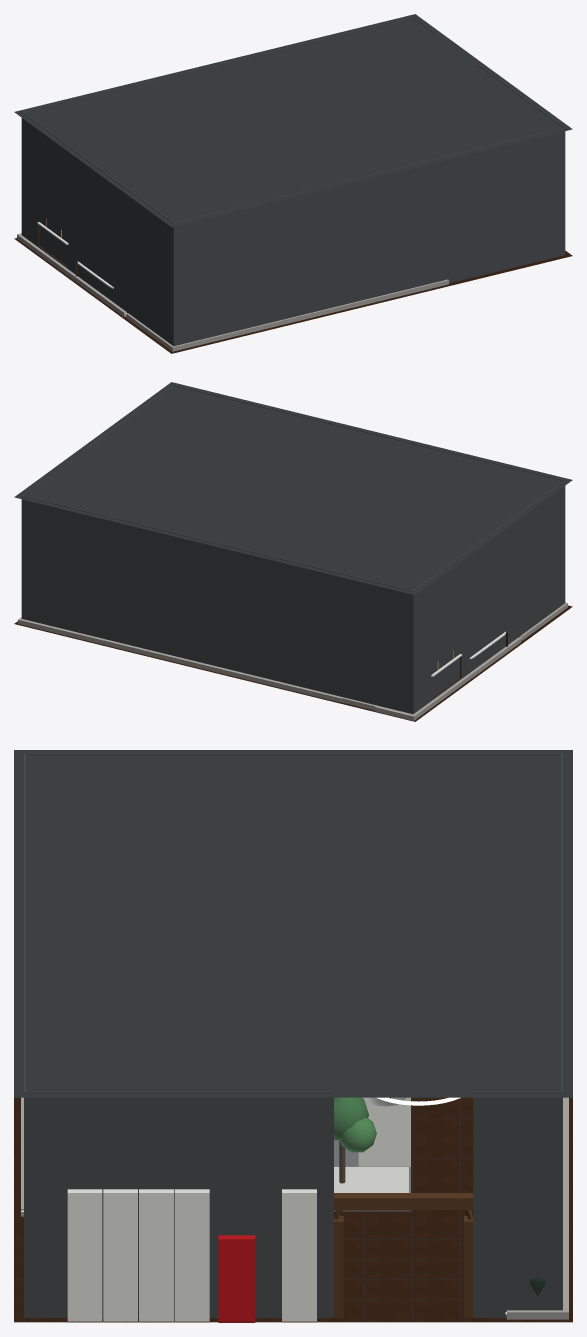
Rendered from Showroom.glb.
3 renders of one model, top to bottom at view 1: azimuth 30°, elevation 25°; view 2: azimuth 150°, elevation 25°; view 3: azimuth 270°, elevation 25°, orthographic. The views are drawn at different scales.
Parts seen in each view (by area): view 1: Walls, Ceiling, Platform_N, Floor, AC_Vent; view 2: Walls, Ceiling, Platform_N, AC_Vent, Floor; view 3: Ceiling, Walls, Cabinets_E, Floor, Planter_Glass, AC_Vent, DoorFrame_E, Fridge, Planter_Tree.
Part boxes in pixels (x1=…): Walls: x1=21, y1=16, x2=565, y2=346; Ceiling: x1=14, y1=14, x2=572, y2=227; Platform_N: x1=17, y1=234, x2=448, y2=351; Floor: x1=14, y1=238, x2=572, y2=353; AC_Vent: x1=17, y1=233, x2=569, y2=352; Walls: x1=21, y1=384, x2=565, y2=714; Ceiling: x1=14, y1=382, x2=572, y2=595; Platform_N: x1=18, y1=603, x2=567, y2=720; AC_Vent: x1=17, y1=602, x2=569, y2=718; Floor: x1=14, y1=605, x2=572, y2=721; Ceiling: x1=14, y1=750, x2=572, y2=1097; Walls: x1=24, y1=753, x2=562, y2=1317; Cabinets_E: x1=67, y1=1167, x2=408, y2=1322; Floor: x1=14, y1=1097, x2=572, y2=1322; Planter_Glass: x1=334, y1=1098, x2=410, y2=1192; AC_Vent: x1=14, y1=1097, x2=572, y2=1322; DoorFrame_E: x1=334, y1=1193, x2=473, y2=1317; Fridge: x1=218, y1=1235, x2=255, y2=1322; Planter_Tree: x1=334, y1=1097, x2=376, y2=1183.
Bounding box in the file's own units: 13.8 × 4.2 × 9.38.
24 materials, 1 textured.
